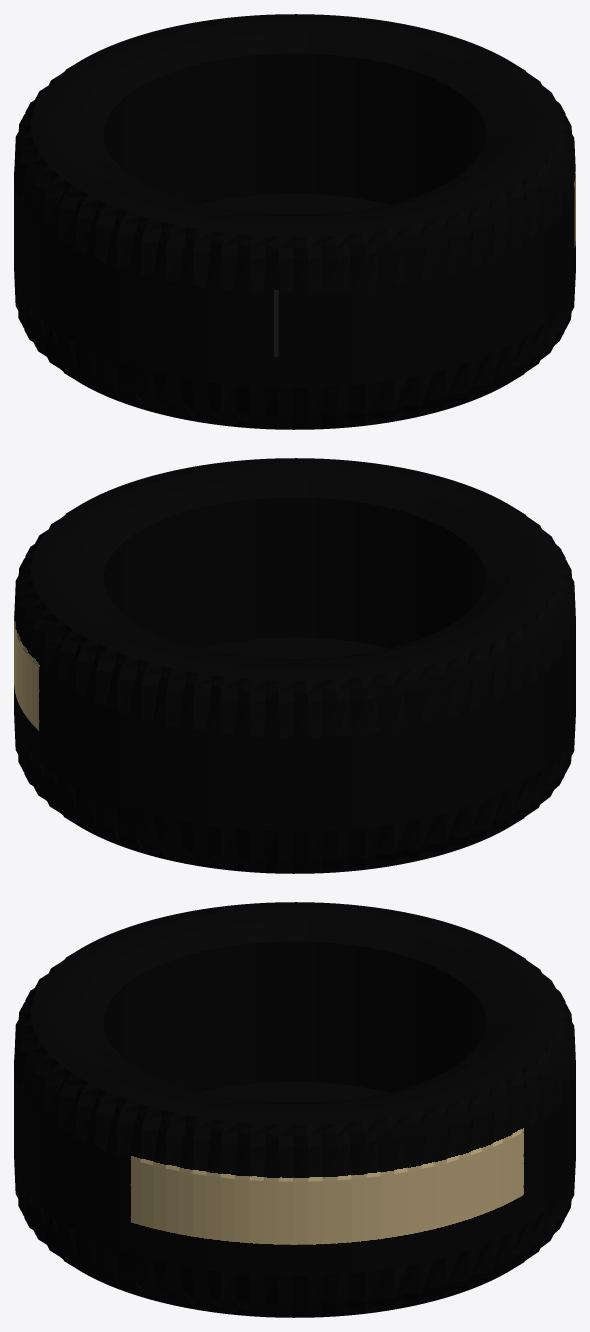
The model's file is rear_left_tire.obj.
3 renders of one model, top to bottom at view 1: azimuth 30°, elevation 25°; view 2: azimuth 150°, elevation 25°; view 3: azimuth 270°, elevation 25°, orthographic.
Bounding box in the file's own units: 0.065 × 0.0254 × 0.065.
1 material, 1 textured.
